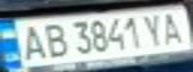1: (121, 14, 145, 50)
3: (69, 18, 93, 55)
4: (106, 15, 127, 52)
8: (87, 16, 109, 53)
A: (12, 23, 51, 62), (157, 9, 190, 45)
B: (36, 20, 69, 60)
Y: (139, 11, 169, 47)
